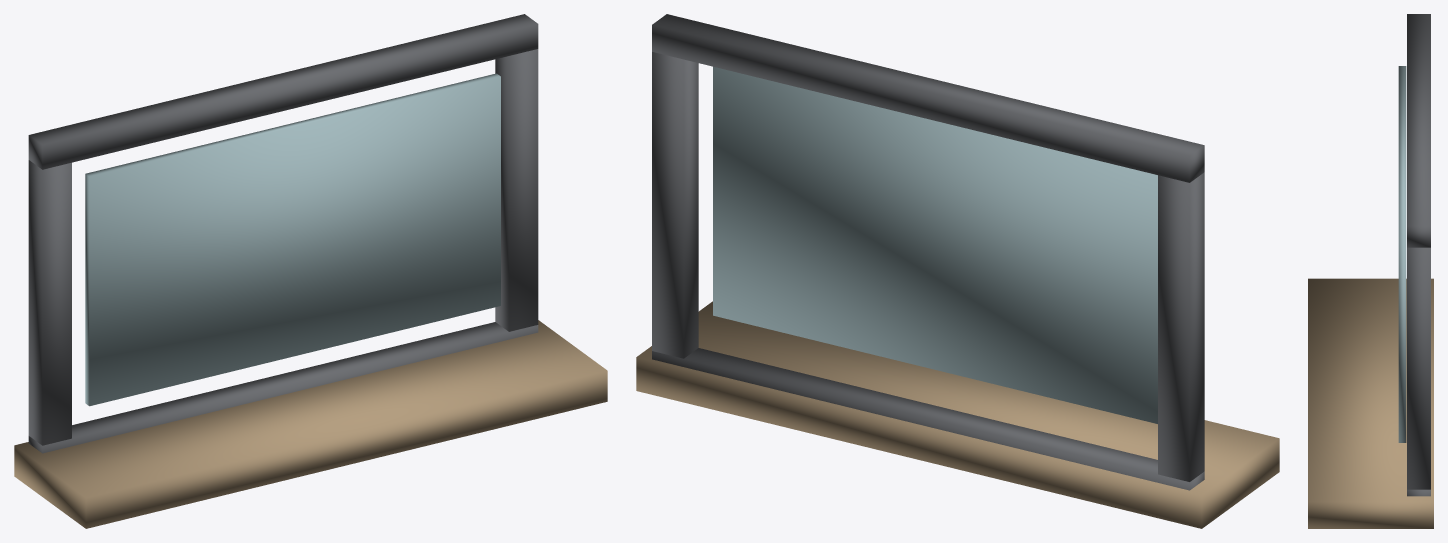
Rendered from service_window__wide.glb.
The picture shows the model from 3 angles, left to right: view 1: azimuth 30°, elevation 25°; view 2: azimuth 150°, elevation 25°; view 3: azimuth 270°, elevation 25°; orthographic projection. The views are drawn at different scales.
Visible parts, largest first — view 1: world; view 2: world; view 3: world.
Part boxes in pixels (bbox=[...]): world: bbox=[14, 14, 607, 528]; world: bbox=[636, 14, 1279, 528]; world: bbox=[1308, 14, 1433, 528].
Size of the model in its own units: 1.76 by 1.1 by 0.42.
